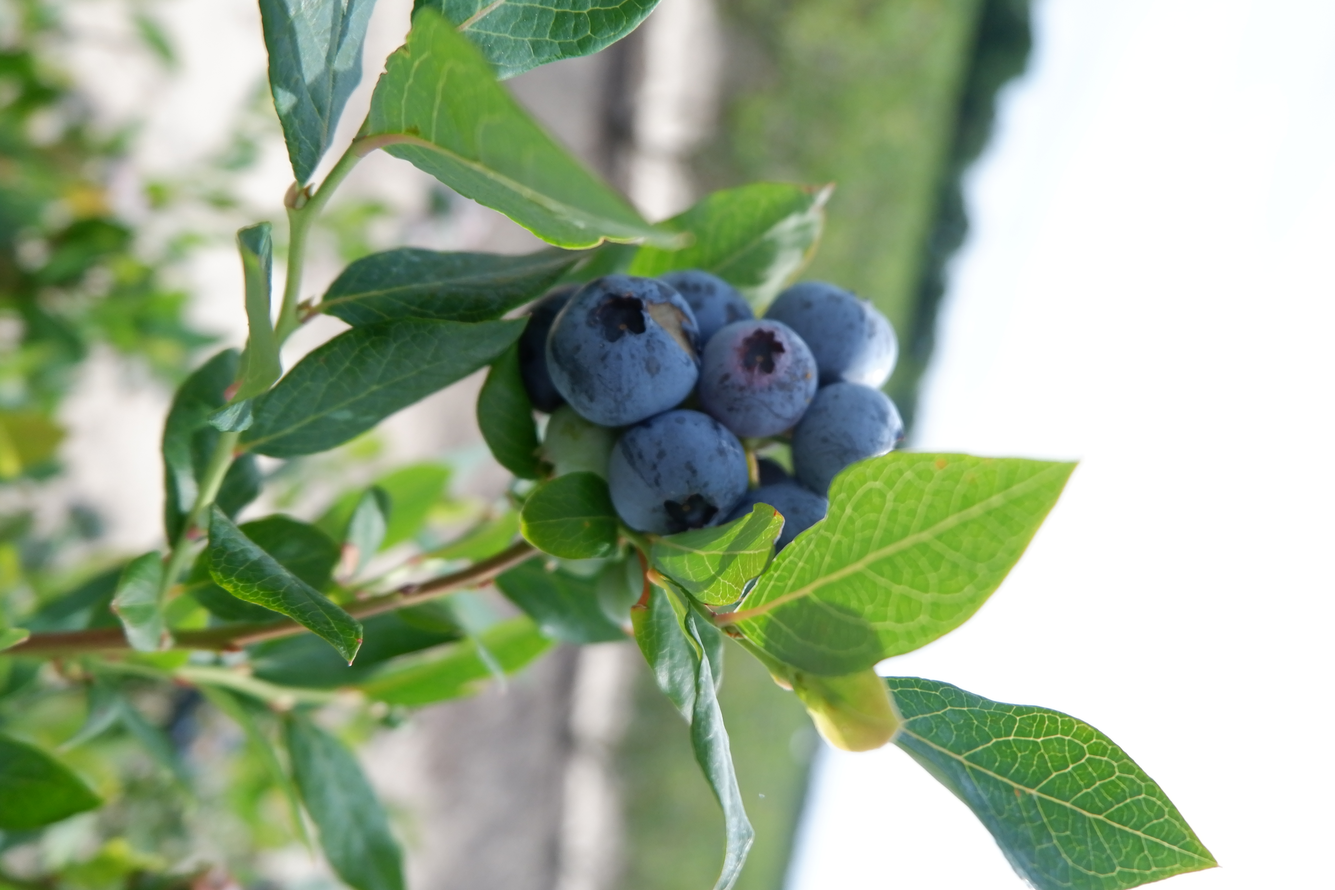Immature: (543, 408, 619, 479)
Mature: (551, 279, 696, 422), (610, 413, 747, 533), (698, 322, 812, 436), (768, 285, 897, 385), (793, 384, 900, 492), (662, 272, 750, 352), (738, 472, 825, 550), (518, 287, 572, 412)
